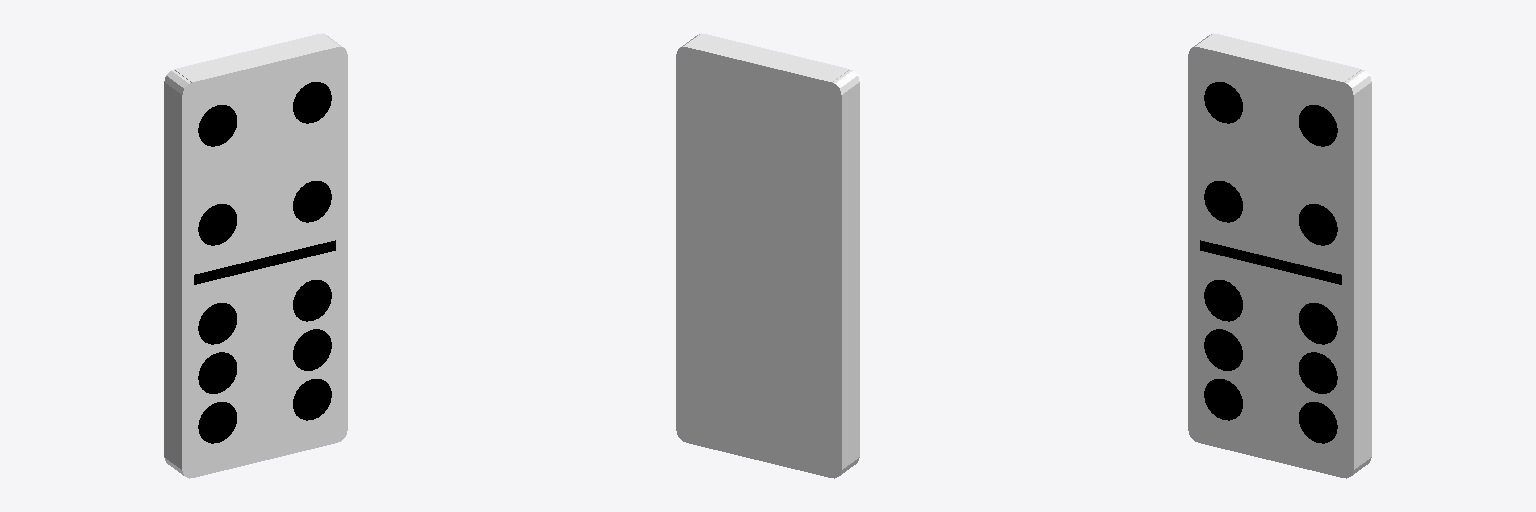
The model's file is domino.obj.
3 renders of one model, left to right at view 1: azimuth 30°, elevation 25°; view 2: azimuth 150°, elevation 25°; view 3: azimuth 330°, elevation 25°, orthographic.
Visible parts, largest first — view 1: domino_base; view 2: domino_base; view 3: domino_base.
Boxes of the visible parts, box(x1,y1,x2,y2) form: domino_base: box(164, 33, 347, 478); domino_base: box(676, 33, 859, 478); domino_base: box(1188, 33, 1371, 478).
Size of the model in its own units: 21 by 48 by 4.